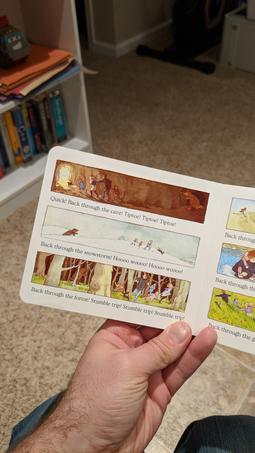text block: (24, 280, 188, 323), (34, 234, 190, 277), (46, 190, 184, 228), (205, 320, 255, 345), (213, 273, 255, 298), (218, 228, 255, 246)
